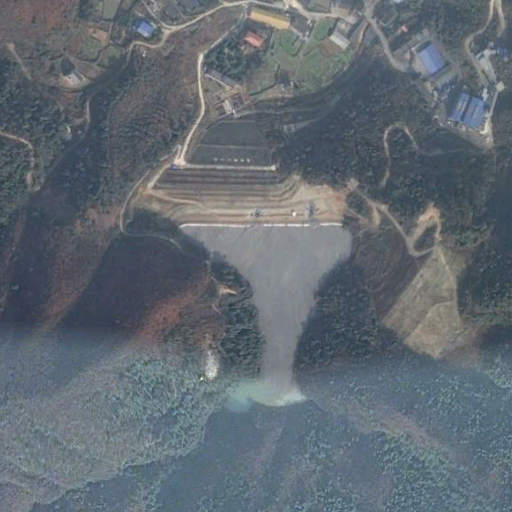tp: (142, 119, 355, 412)
